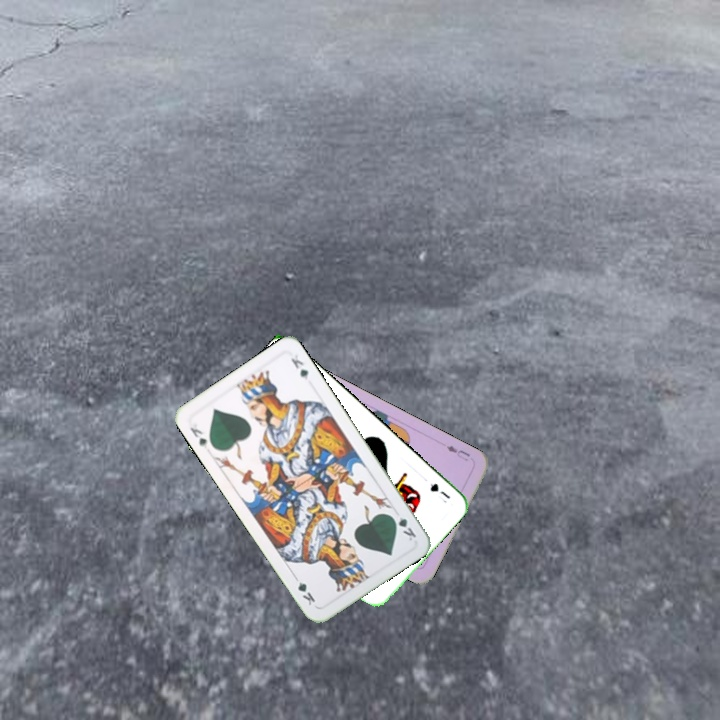EU: (442, 441, 473, 463)
GK: (387, 511, 419, 543), (186, 423, 211, 451)
GU: (426, 479, 453, 502)
